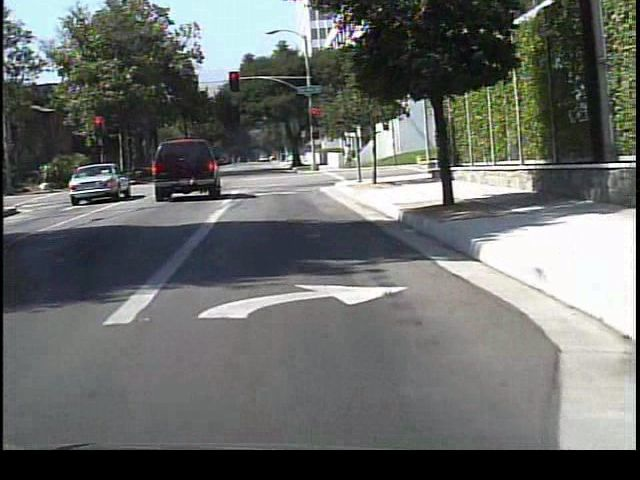person: (340, 143, 355, 171)
